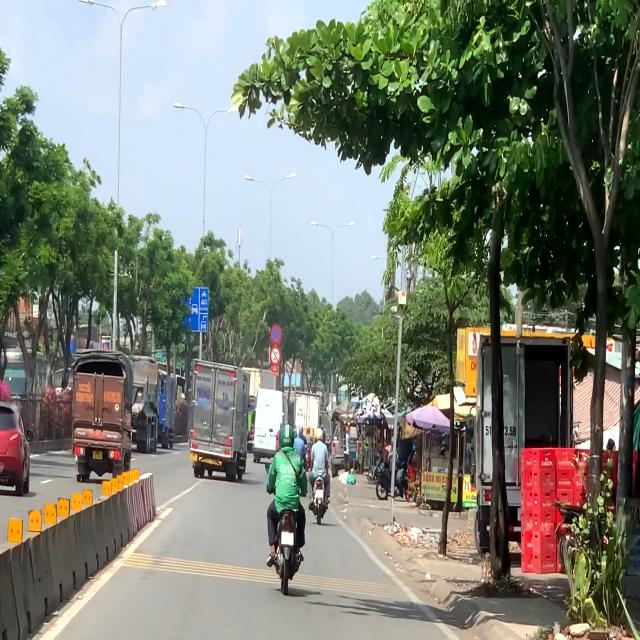P.130: (270, 324, 282, 344)
